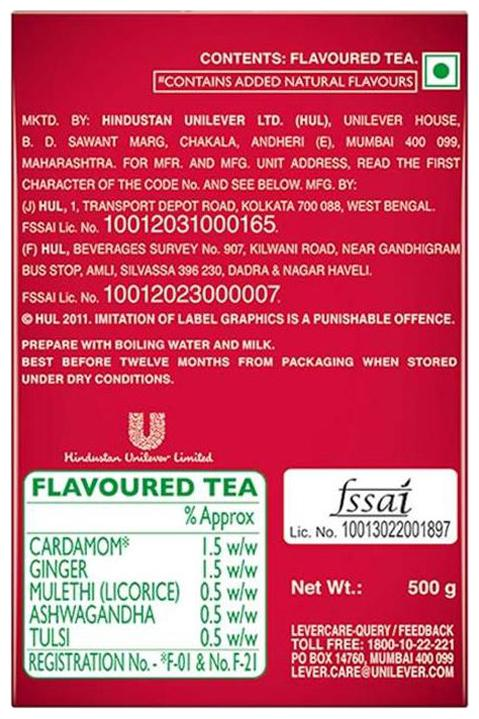fssai: (329, 476, 416, 517)
